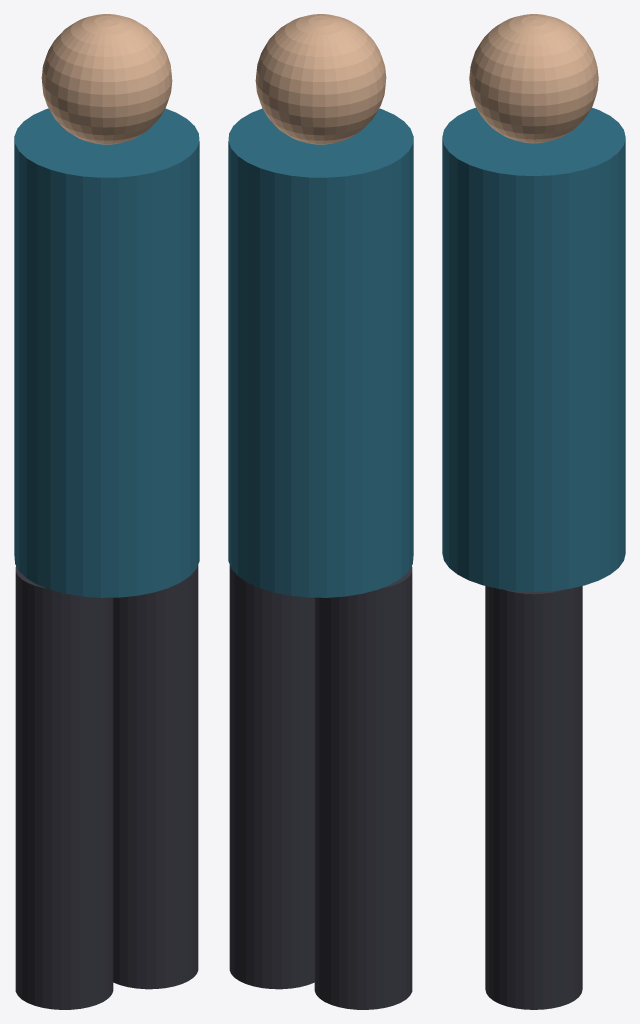
File: Person.glb
The picture shows the model from 3 angles, left to right: view 1: azimuth 30°, elevation 25°; view 2: azimuth 150°, elevation 25°; view 3: azimuth 270°, elevation 25°; orthographic projection.
Visible parts, largest first — view 1: Body, Leg L, Leg R, Head; view 2: Body, Leg L, Leg R, Head; view 3: Body, Leg R, Head.
Boxes of the visible parts, bbox=[...] form: Body: bbox=[14, 108, 199, 597]; Leg L: bbox=[15, 566, 113, 1009]; Leg R: bbox=[113, 565, 198, 989]; Head: bbox=[41, 14, 172, 144]; Body: bbox=[228, 108, 413, 597]; Leg L: bbox=[314, 566, 412, 1009]; Leg R: bbox=[229, 565, 314, 989]; Head: bbox=[255, 14, 386, 144]; Body: bbox=[442, 107, 625, 591]; Leg R: bbox=[485, 586, 582, 1009]; Head: bbox=[469, 14, 598, 143].
Size of the model in its own units: 0.36 by 1.94 by 0.34.
